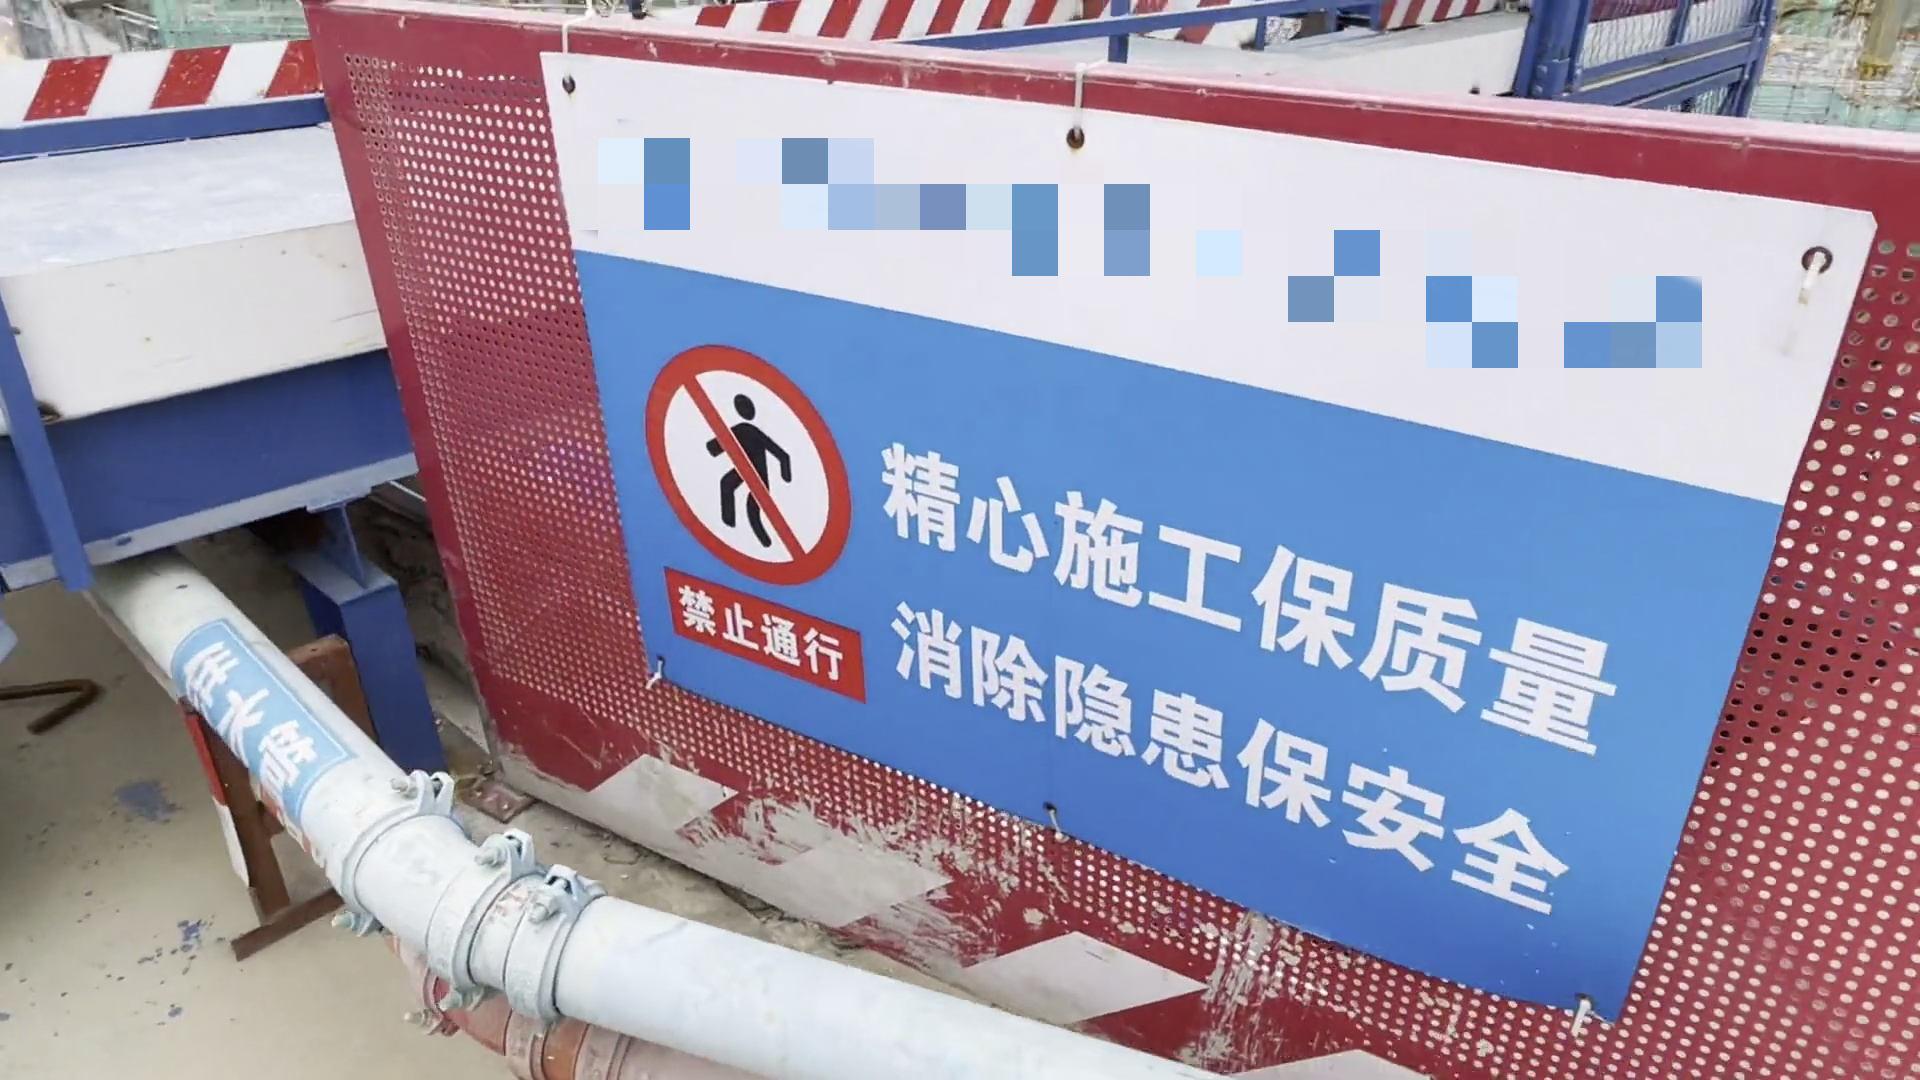slogan: (601, 306, 1665, 967)
